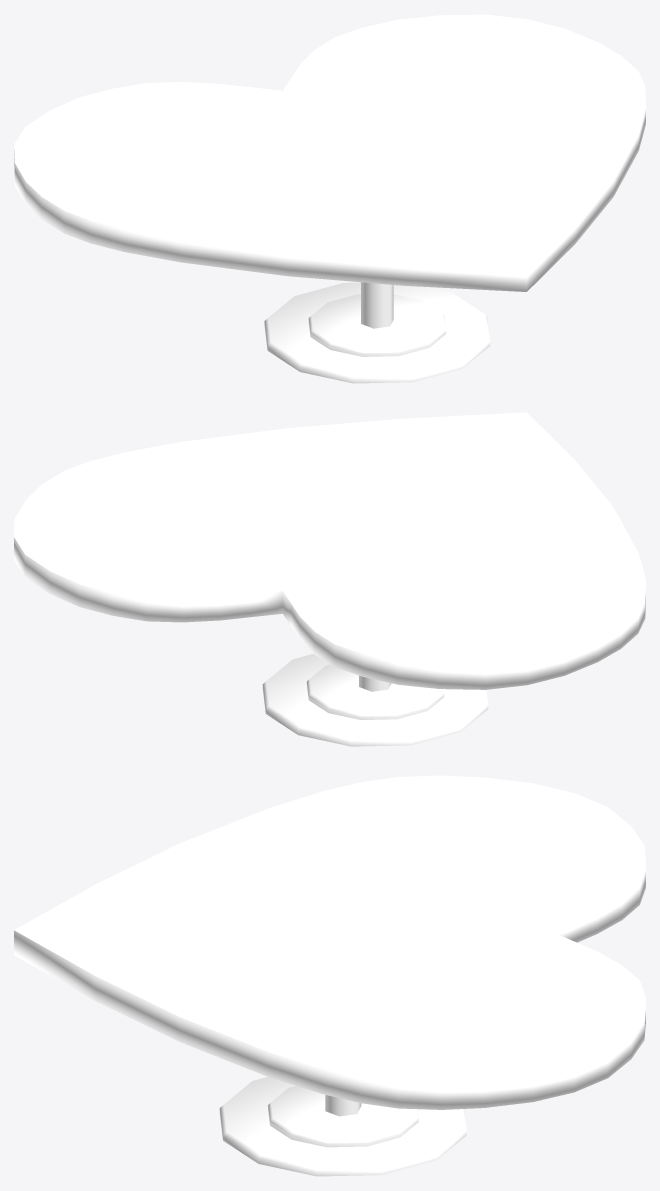
The model's file is HeartTable1.glb.
The picture shows the model from 3 angles, top to bottom: view 1: azimuth 30°, elevation 25°; view 2: azimuth 150°, elevation 25°; view 3: azimuth 270°, elevation 25°; orthographic projection. The views are drawn at different scales.
Parts seen in each view (by area): view 1: HeartTable1; view 2: HeartTable1; view 3: HeartTable1.
Boxes of the visible parts, <box> form: HeartTable1: <box>14,14,645,383</box>; HeartTable1: <box>14,412,645,746</box>; HeartTable1: <box>14,775,645,1176</box>.
Size of what is drawn, in the model's own units: 2.9 by 0.8452 by 2.5.
Materials: 2 (2 with a texture image).
